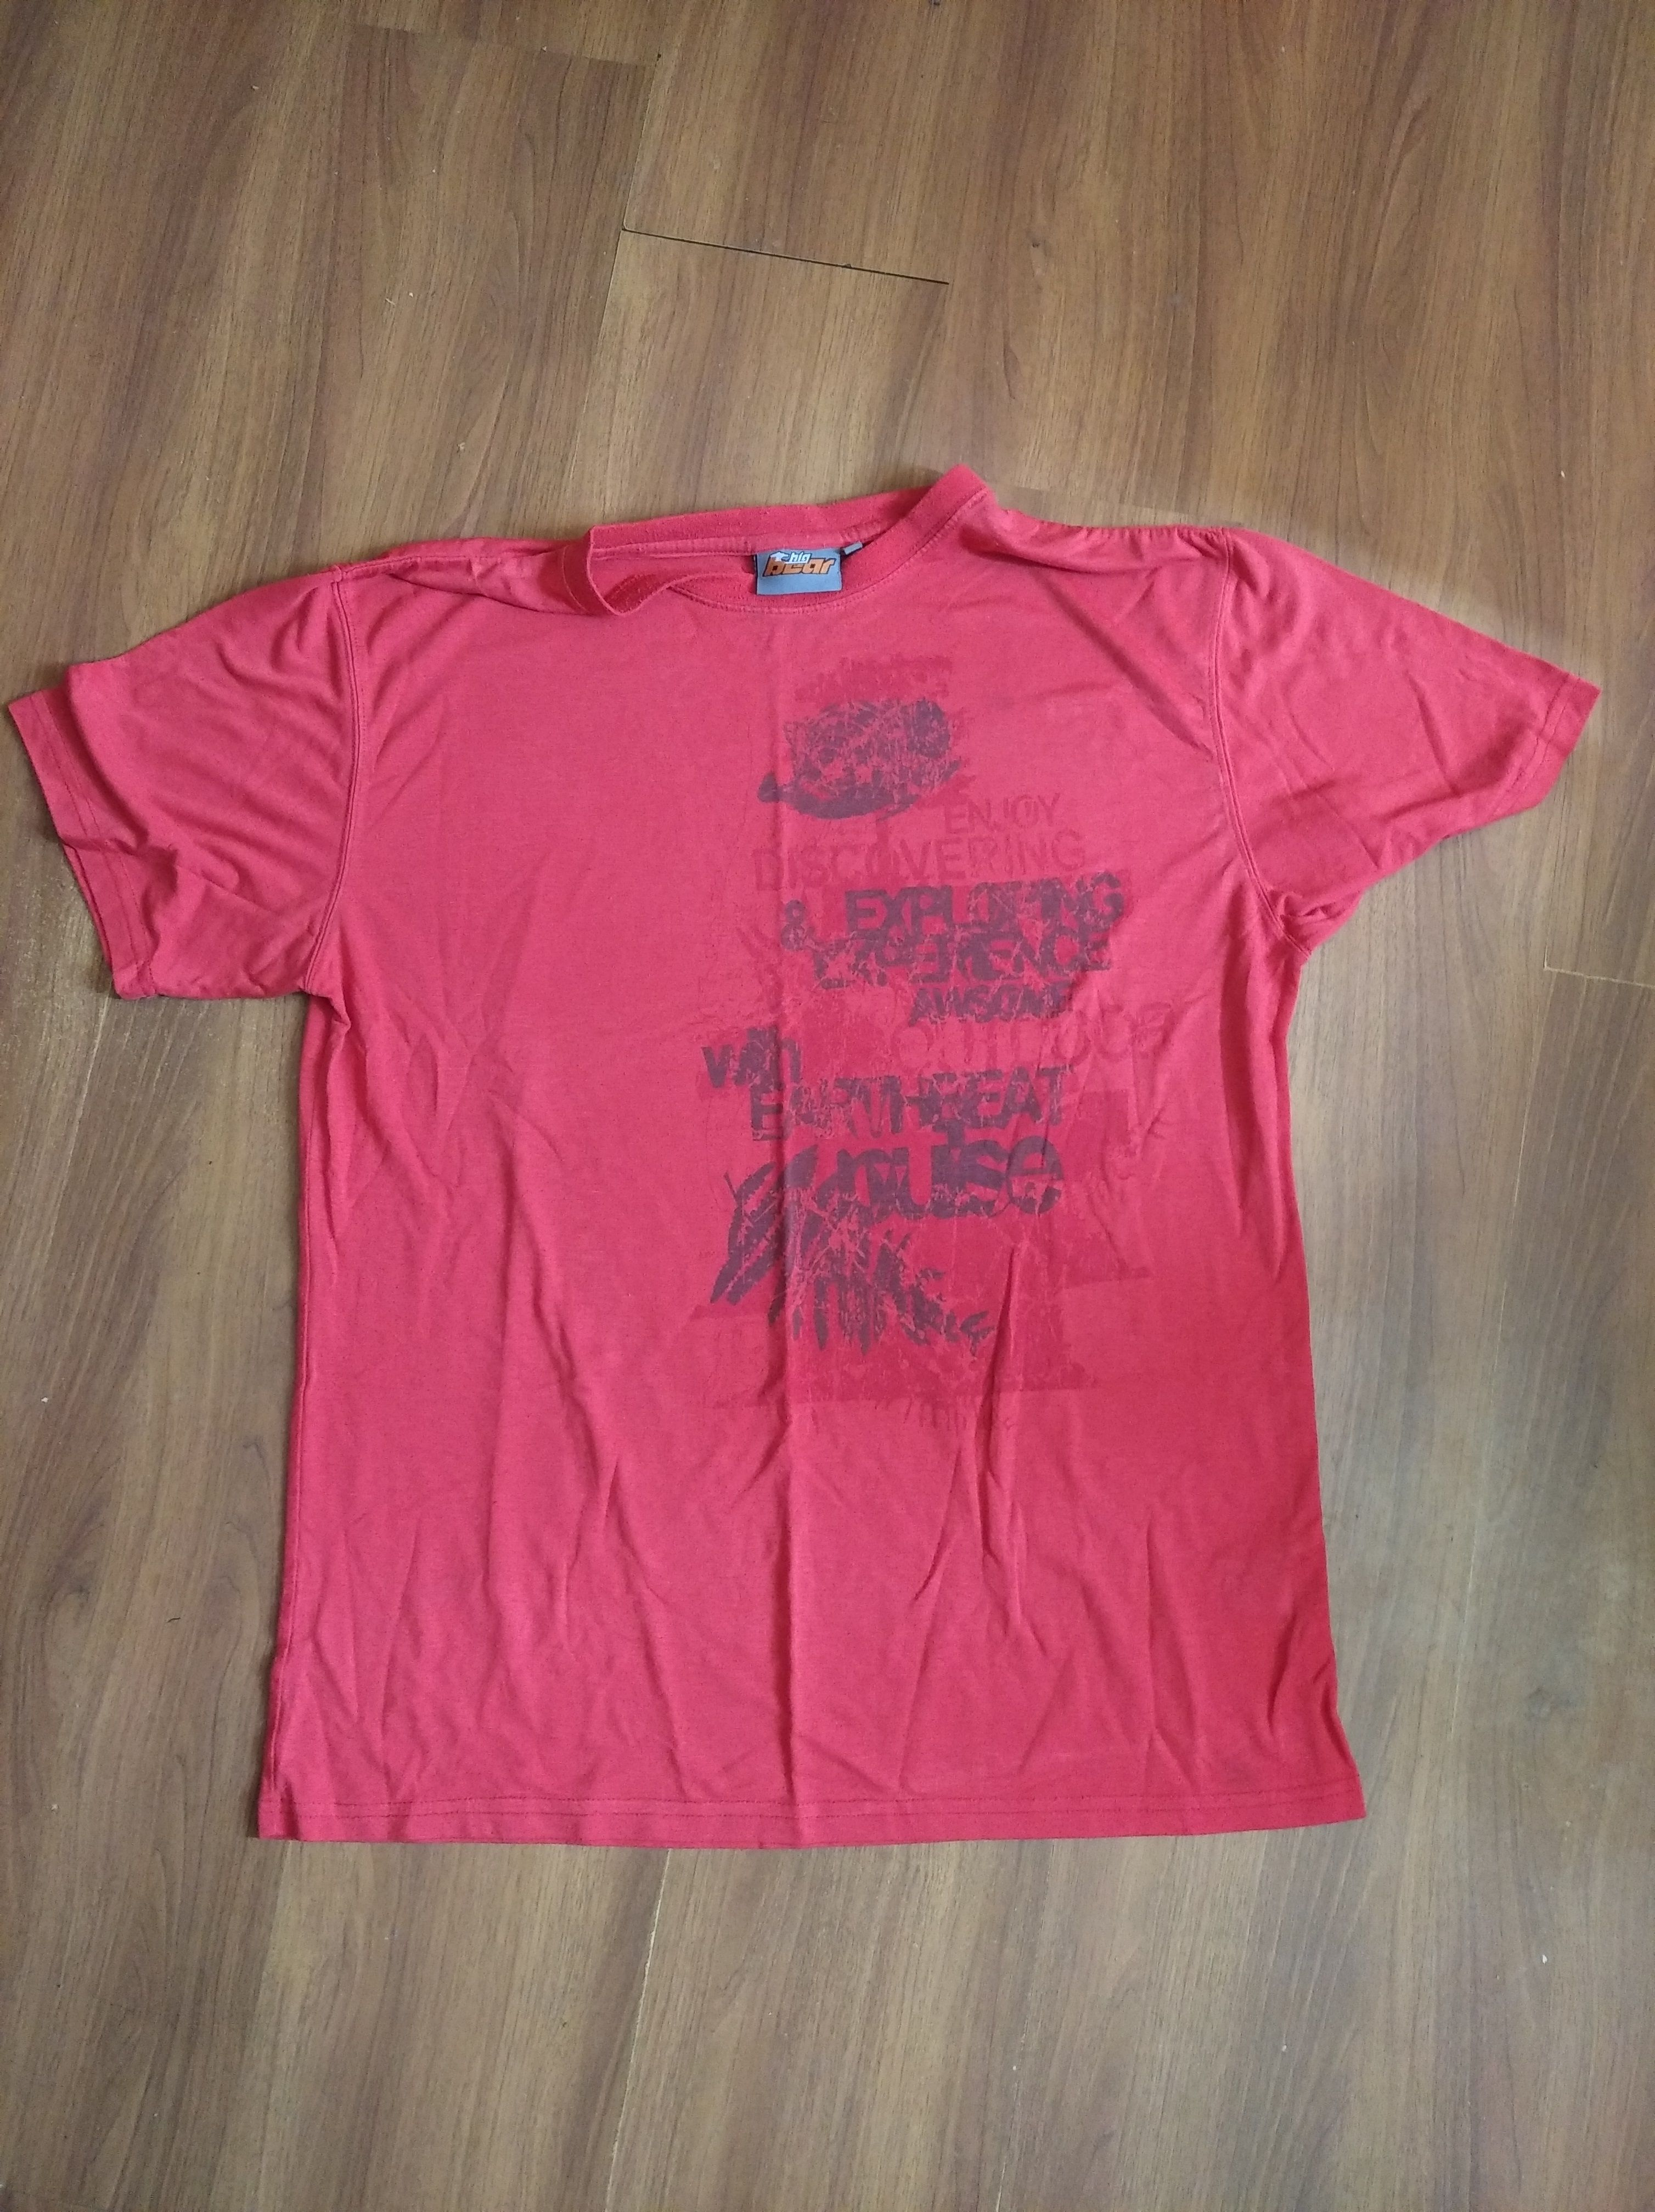clothes: (5, 466, 1566, 1847)
